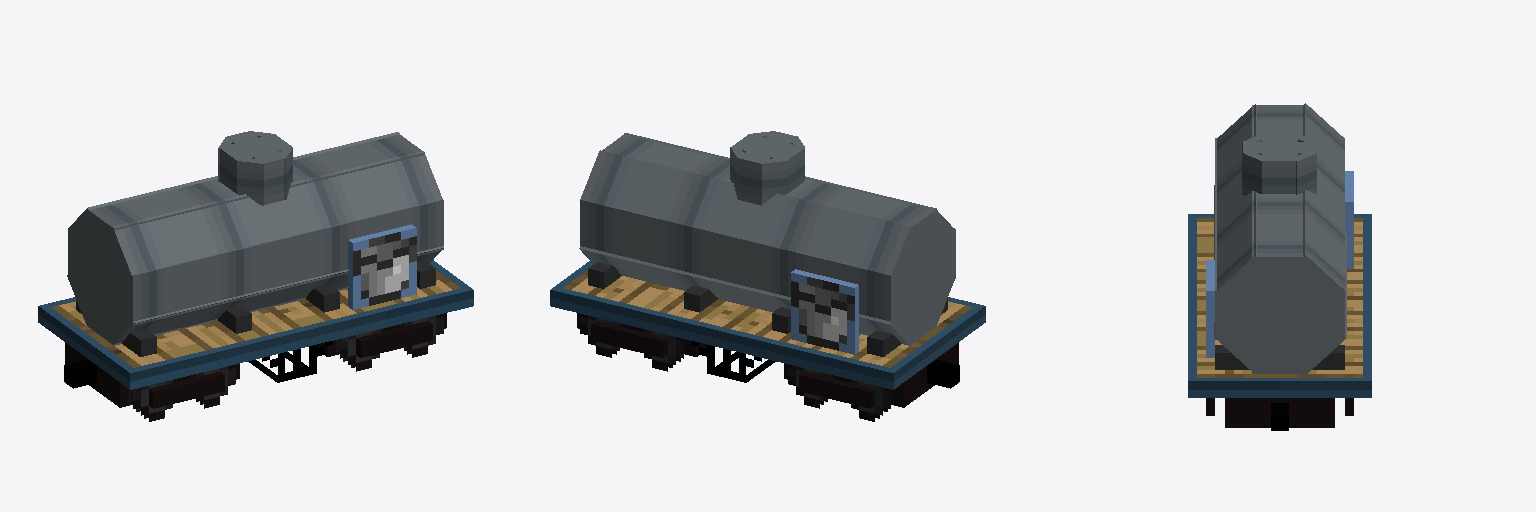
3 renders of one model, left to right at view 1: azimuth 30°, elevation 25°; view 2: azimuth 150°, elevation 25°; view 3: azimuth 270°, elevation 25°, orthographic.
Visible parts, largest first — view 1: box11, box9, box10, box13, box12, box24, box18, box17, box26, box15, box, box29 (+9 smaller); view 2: box12, box9, box10, box13, box11, box30, box26, box19, box16, box15, box, box29 (+9 smaller); view 3: box9, box12, box11, box13, box10, box8, box29, box20, box24, box27, box33, box30 (+1 smaller).
Part boxes in pixels (x1,y1,x2,y2): box11: (67,151,442,324); box9: (38,260,473,389); box10: (68,199,443,325); box13: (87,135,424,345); box12: (68,132,443,343); box24: (348,224,416,309); box18: (356,321,432,357); box17: (149,371,224,408); box26: (226,131,285,204); box15: (65,342,239,407); box: (248,341,332,382); box29: (220,134,292,193); box12: (580,150,955,323); box9: (550,261,985,389); box10: (580,200,955,325); box13: (602,133,936,344); box11: (579,133,954,345); box30: (791,269,858,354); box26: (738,131,797,205); box19: (591,321,667,357); box16: (799,371,874,408); box15: (784,342,958,407); box: (691,341,775,382); box29: (732,134,804,192); box9: (1188,214,1371,397); box12: (1214,103,1344,372); box11: (1217,104,1346,373); box13: (1252,105,1307,373); box10: (1215,138,1344,339); box8: (1225,398,1334,427); box29: (1262,134,1297,193); box20: (1215,345,1344,369); box24: (1206,260,1214,357); box27: (1291,153,1316,194); box33: (1242,150,1261,195); box30: (1345,171,1353,268).
Bounding box in the file's own units: 2.94 × 1.62 × 1.25.
Materials: 1 (1 with a texture image).